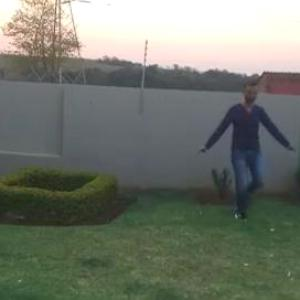land: (200, 91, 296, 224)
